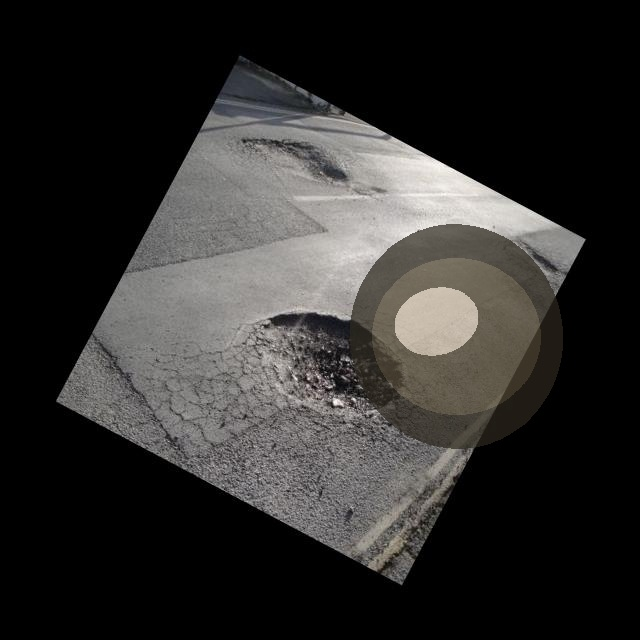waterlogging: (340, 214, 572, 458)
